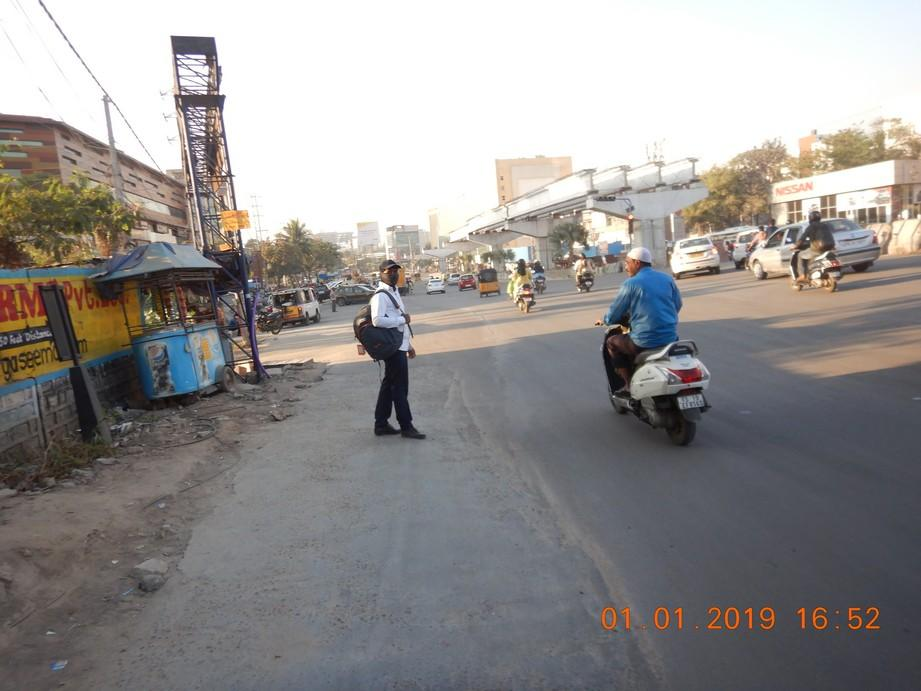plate: (676, 392, 708, 410)
